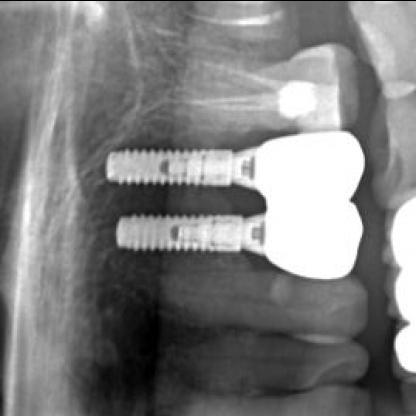ITI: (101, 201, 246, 281), (102, 130, 233, 198)
